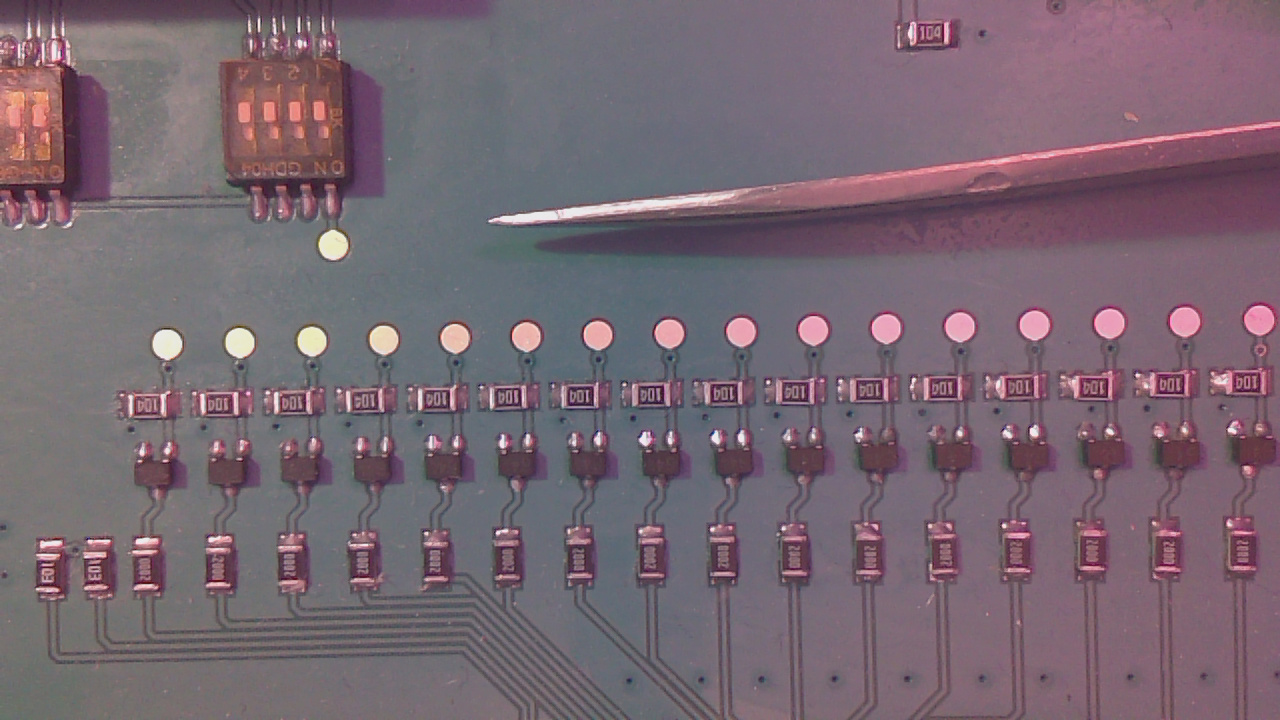Resistor: (127, 395, 178, 427), (859, 531, 892, 579), (712, 532, 742, 582), (784, 536, 816, 582), (1231, 530, 1262, 577), (848, 378, 896, 408), (425, 539, 455, 587), (1155, 530, 1185, 578), (86, 554, 117, 600), (933, 535, 964, 581), (278, 546, 308, 593), (353, 542, 383, 589), (416, 389, 468, 416), (201, 395, 251, 423), (496, 543, 527, 588), (569, 540, 600, 585), (999, 377, 1047, 406), (136, 553, 166, 599), (562, 385, 608, 414), (640, 540, 669, 586), (911, 23, 957, 52), (634, 385, 678, 415), (1083, 530, 1111, 577), (775, 382, 820, 411), (1227, 370, 1269, 401), (490, 388, 536, 416), (704, 382, 751, 409), (1007, 533, 1035, 578), (40, 555, 68, 599), (211, 549, 237, 596), (1077, 377, 1120, 405), (347, 394, 393, 420), (926, 378, 969, 405), (1152, 376, 1194, 403), (274, 392, 317, 418)
Transistor: (498, 435, 544, 493), (1156, 427, 1201, 485), (210, 445, 257, 500), (931, 429, 977, 484), (427, 438, 472, 494), (1084, 431, 1132, 483), (137, 450, 183, 504), (857, 431, 903, 485), (1008, 430, 1054, 484), (643, 435, 686, 492), (358, 439, 398, 500), (717, 438, 761, 493), (1235, 424, 1278, 480), (285, 444, 330, 497), (569, 437, 614, 490), (787, 434, 830, 488)
